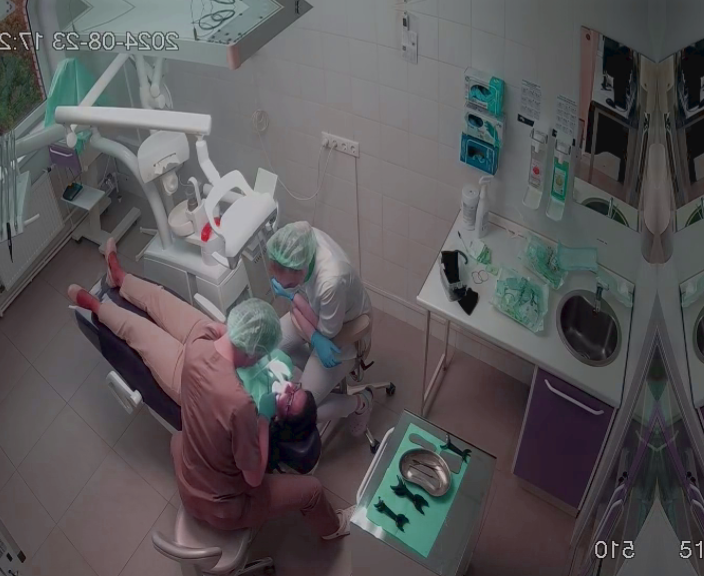Patient: (67, 239, 322, 482)
